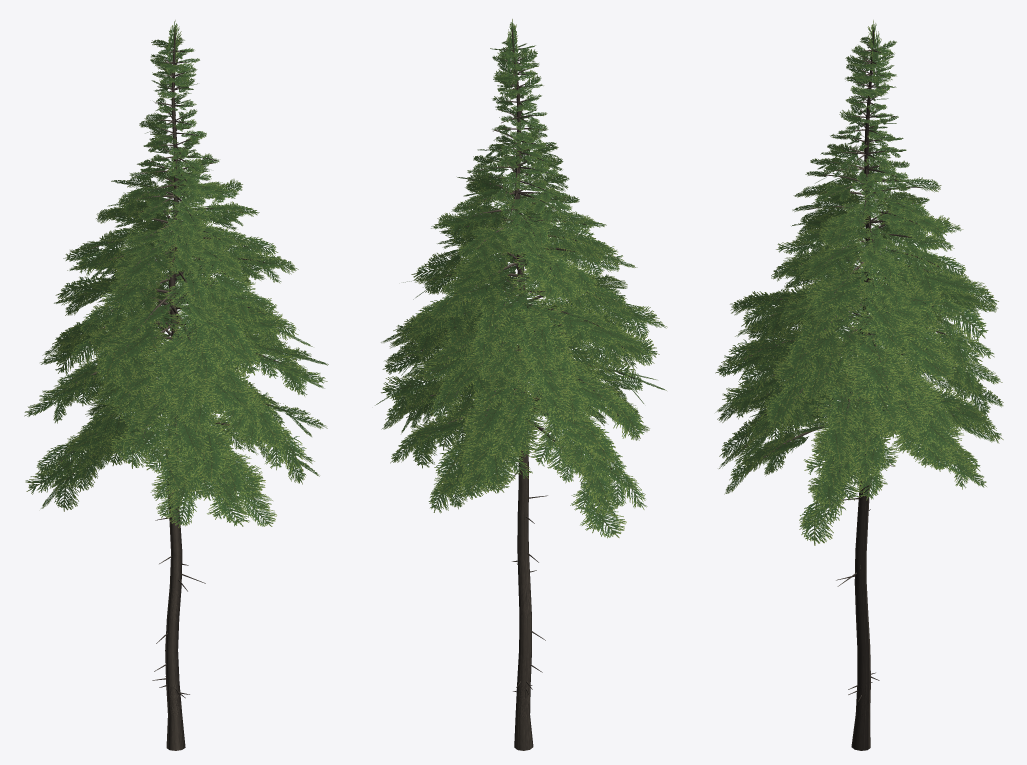
The model's file is near.glb.
The picture shows the model from 3 angles, left to right: view 1: azimuth 30°, elevation 25°; view 2: azimuth 150°, elevation 25°; view 3: azimuth 270°, elevation 25°; orthographic projection.
Parts seen in each view (by area): view 1: spruce_02; view 2: spruce_02; view 3: spruce_02.
Part boxes in pixels (x1,y1,x2,y2): spruce_02: (24,20,328,750); spruce_02: (375,19,667,750); spruce_02: (715,20,1003,750).
Size of the model in its own units: 8.12 by 19.65 by 7.43.
Materials: 2 (2 with a texture image).
